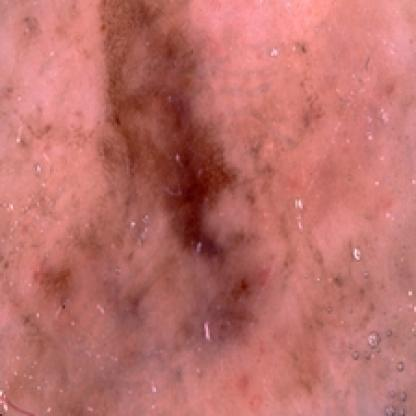Skin_Cancer-Malignant: (94, 2, 269, 338)
